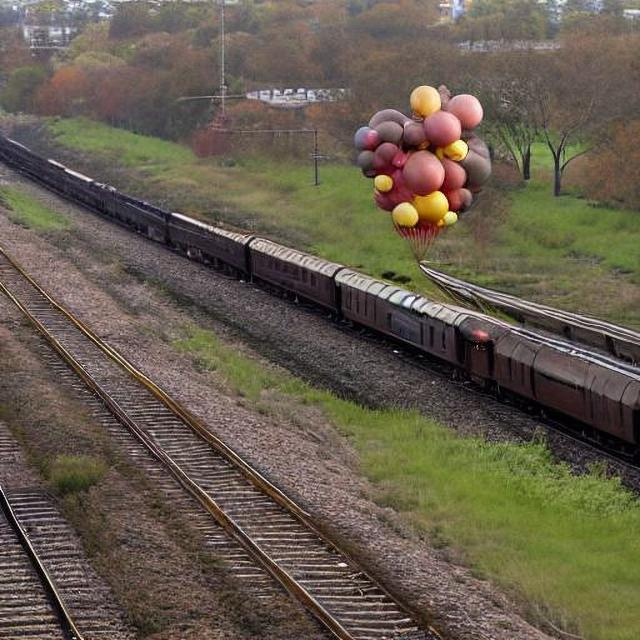balloon: (349, 81, 488, 247)
